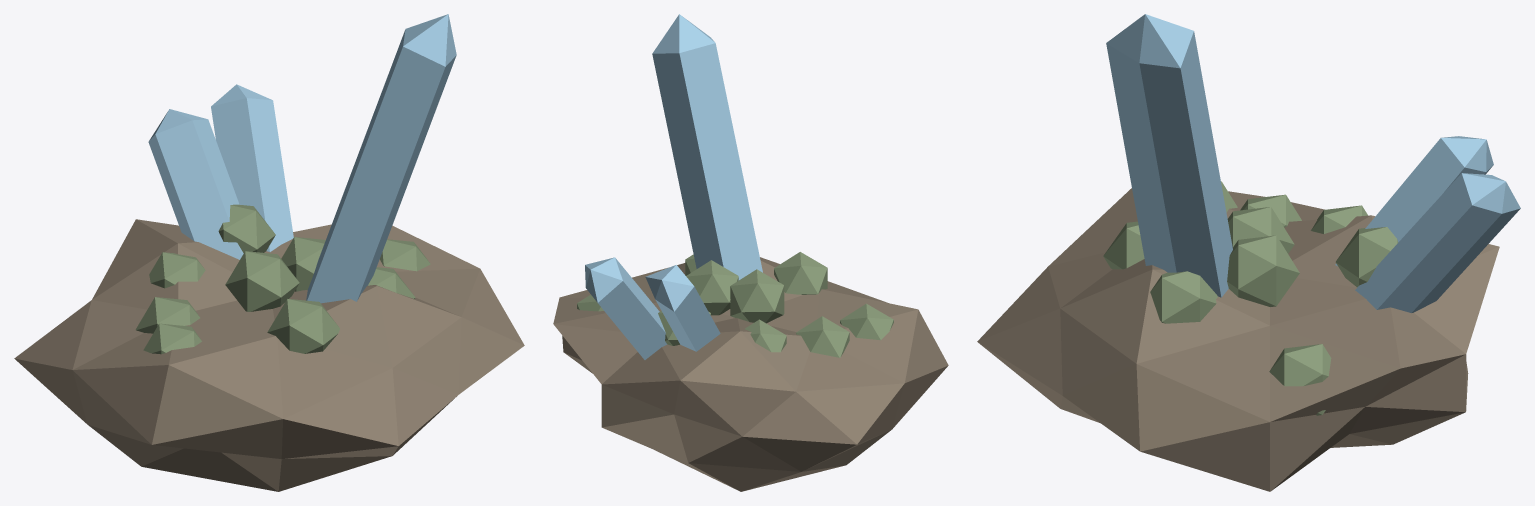
The model's file is mossy_gem_2.fbx.
3 views of the same model, side by side, from view 1: azimuth 30°, elevation 25°; view 2: azimuth 150°, elevation 25°; view 3: azimuth 270°, elevation 25° (orthographic). The views are drawn at different scales.
Visible parts, largest first — view 1: pCylinder14; view 2: pCylinder14; view 3: pCylinder14.
Boxes of the visible parts, bbox=[...] form: pCylinder14: bbox=[14, 14, 524, 491]; pCylinder14: bbox=[553, 14, 948, 491]; pCylinder14: bbox=[977, 14, 1520, 491].
Bounding box in the file's own units: 0.6998 × 0.7151 × 0.7076.
